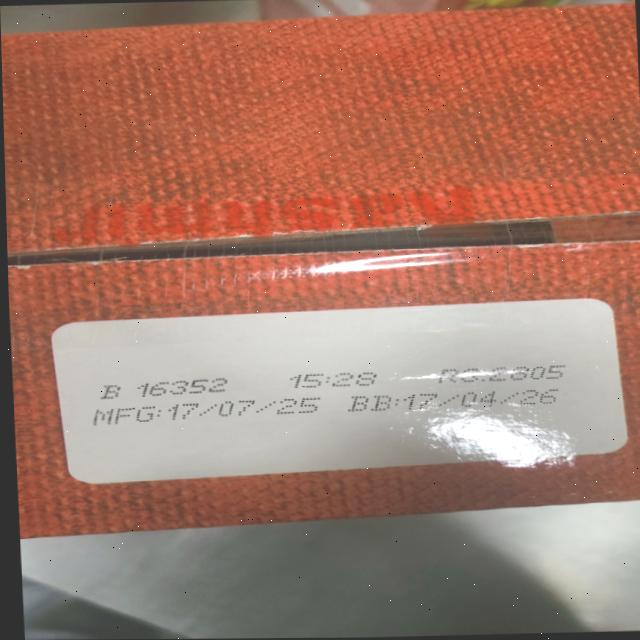BB: (336, 386, 575, 413)
Batch: (89, 373, 239, 397)
MFG: (85, 396, 323, 422)
RS: (437, 360, 577, 387)
TimeStamp: (289, 366, 381, 390)
